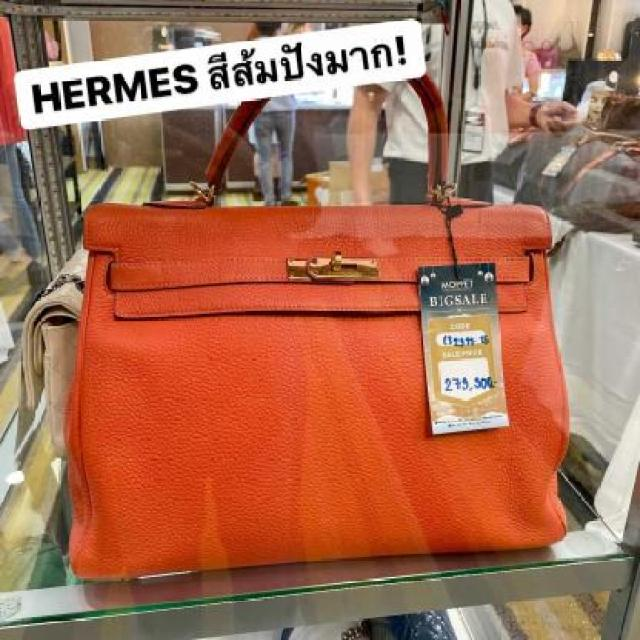Bag: (29, 34, 640, 608)
